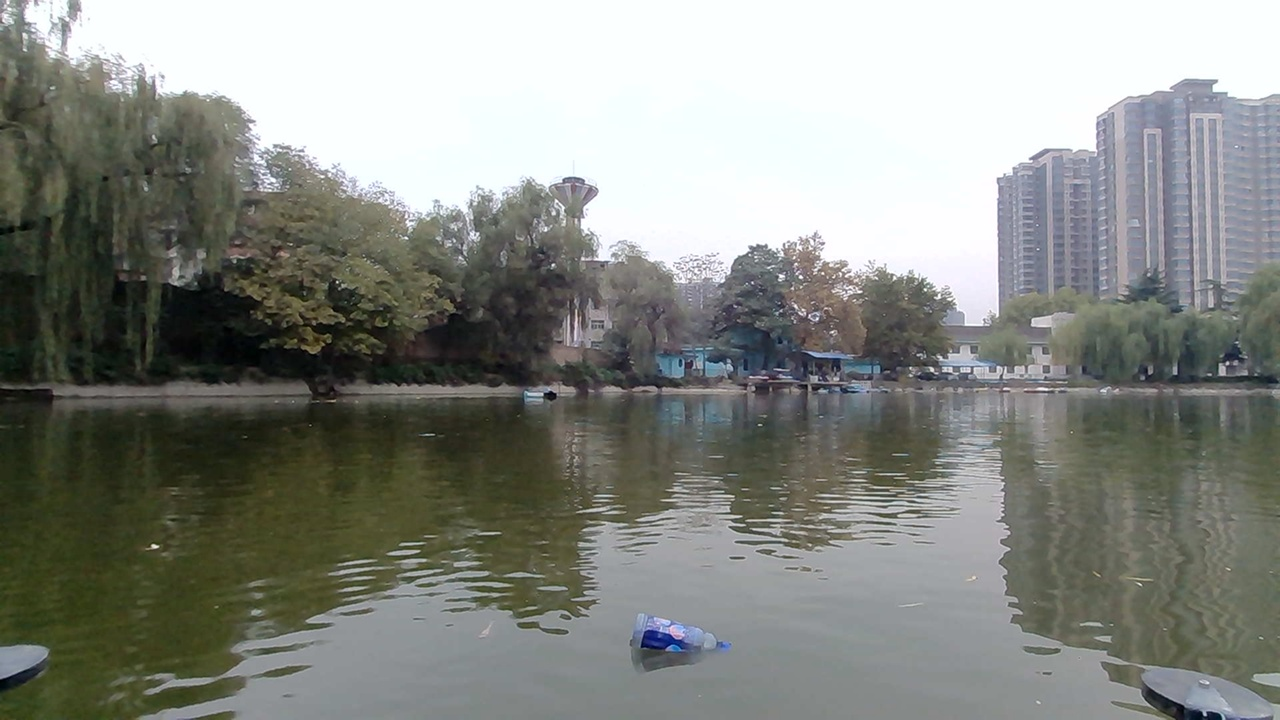bottle: (614, 607, 739, 670)
